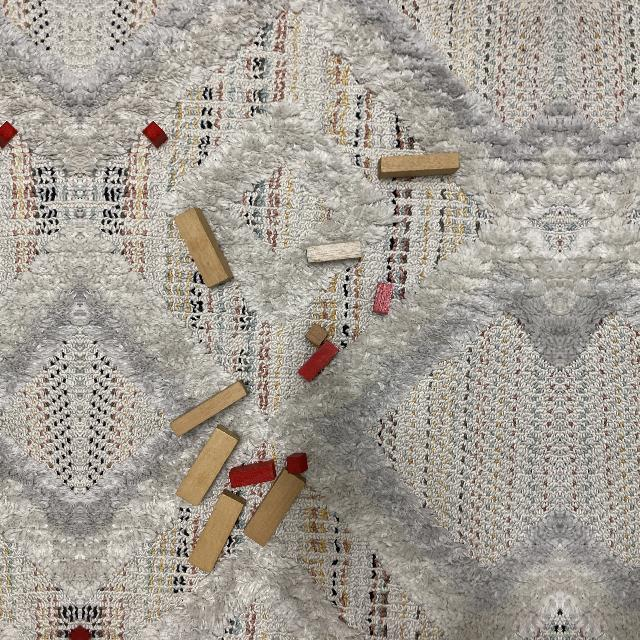block: (306, 240, 361, 263)
cube: (306, 323, 328, 348)
jenga: (176, 425, 240, 507), (173, 208, 235, 292), (243, 467, 306, 548), (188, 488, 247, 574), (169, 379, 249, 438), (378, 153, 459, 179)
red block: (297, 340, 338, 382), (229, 460, 277, 488), (373, 282, 393, 315)
red cube: (142, 121, 168, 148), (0, 121, 18, 148), (286, 453, 307, 474)
